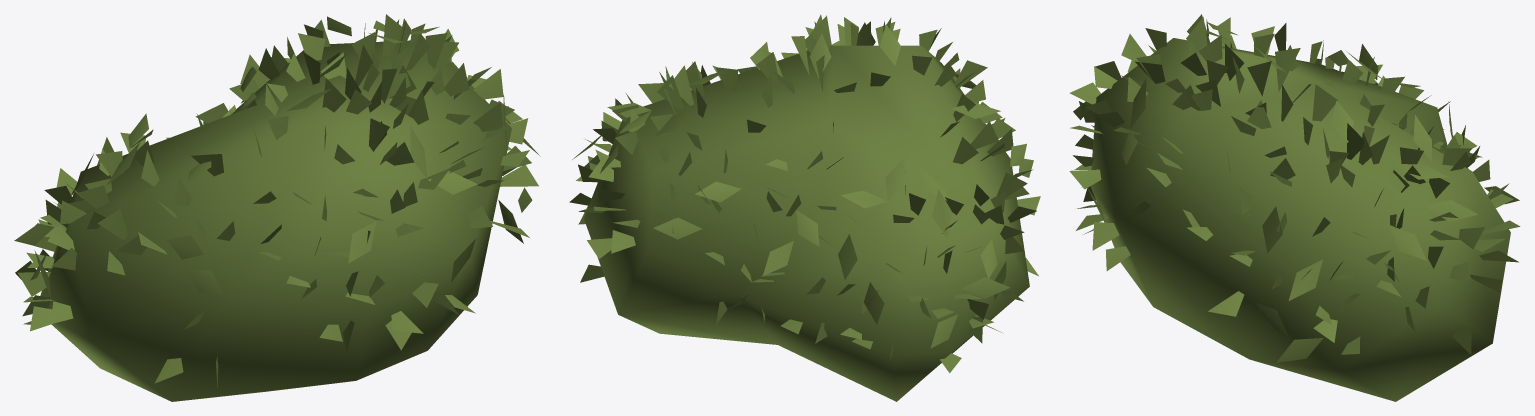
Rendered from shrub-a-light.glb.
The picture shows the model from 3 angles, left to right: view 1: azimuth 30°, elevation 25°; view 2: azimuth 150°, elevation 25°; view 3: azimuth 270°, elevation 25°; orthographic projection. The views are drawn at different scales.
Visible parts, largest first — view 1: shrub-a.001; view 2: shrub-a.001; view 3: shrub-a.001.
Boxes of the visible parts, <box> form: shrub-a.001: <box>14,14,540,401</box>; shrub-a.001: <box>569,14,1040,401</box>; shrub-a.001: <box>1069,14,1520,401</box>.
Bounding box in the file's own units: 0.9034 × 0.6042 × 0.775.
